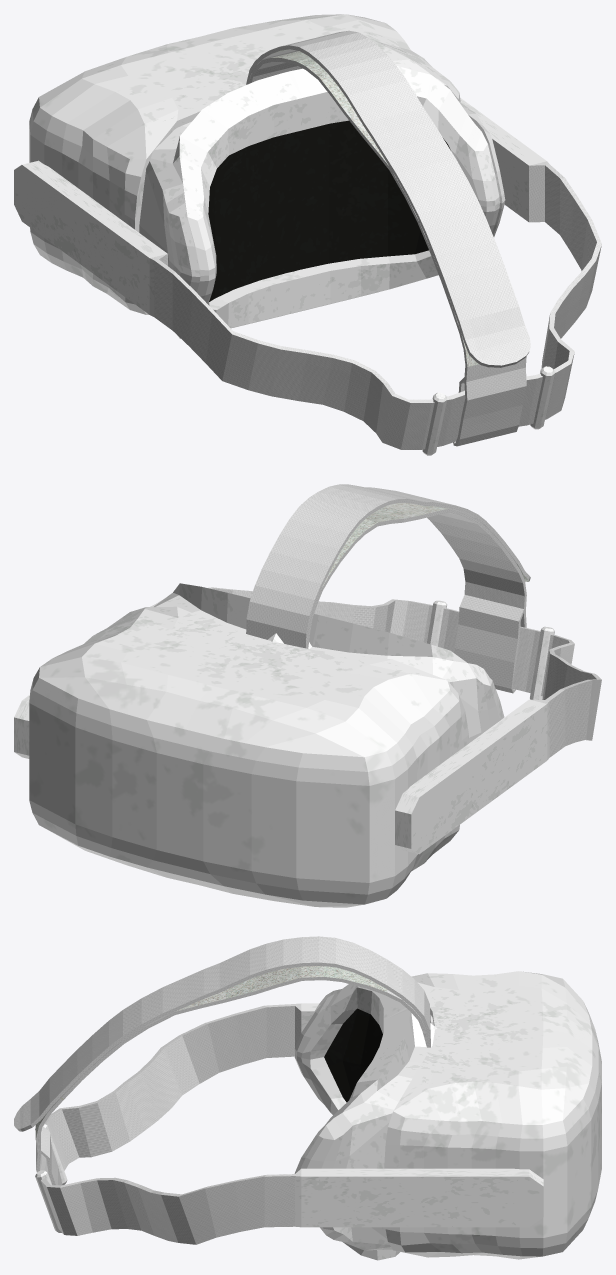
File: Quest2.fbx
3 renders of one model, top to bottom at view 1: azimuth 30°, elevation 25°; view 2: azimuth 150°, elevation 25°; view 3: azimuth 270°, elevation 25°, orthographic. The views are drawn at different scales.
Parts seen in each view (by area): view 1: Pillow, SideStrap, TopStrap.001, Body, Cylinder; view 2: Body, TopStrap.001, SideStrap, Pillow, Cylinder; view 3: Body, SideStrap, Pillow, TopStrap.001, Cylinder.
Boxes of the visible parts, x1,y1,x2,y2 form: Pillow: (139, 66, 505, 338); SideStrap: (14, 98, 601, 449); TopStrap.001: (246, 30, 530, 446); Body: (29, 14, 460, 314); Cylinder: (422, 366, 554, 455); Body: (29, 606, 468, 907); TopStrap.001: (246, 484, 530, 693); SideStrap: (14, 587, 601, 854); Pillow: (154, 583, 504, 742); Cylinder: (427, 600, 554, 699); Body: (384, 971, 601, 1259); SideStrap: (40, 1003, 543, 1244); Pillow: (294, 984, 436, 1260); TopStrap.001: (14, 936, 430, 1185); Cylinder: (35, 1123, 67, 1232).
Size of the model in its own units: 428 by 316 by 615.
